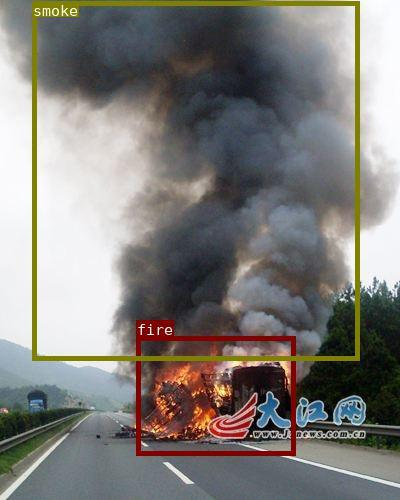fire: (135, 336, 295, 454)
smoke: (31, 1, 359, 359)
